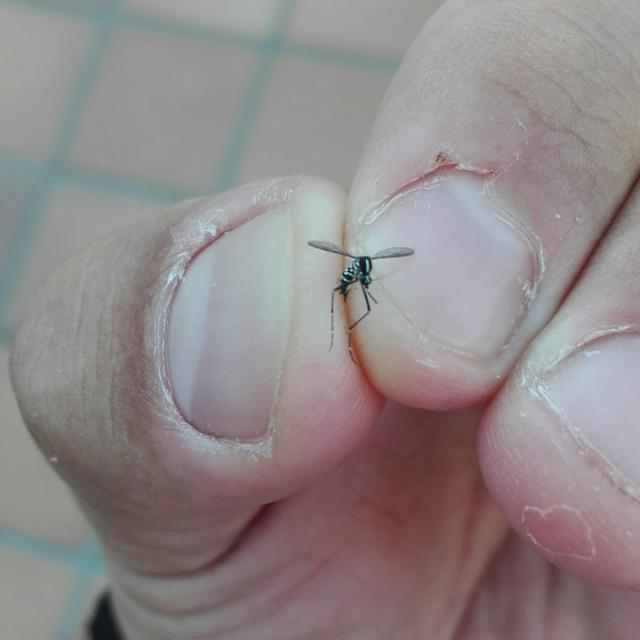albopictus: (305, 219, 413, 363)
